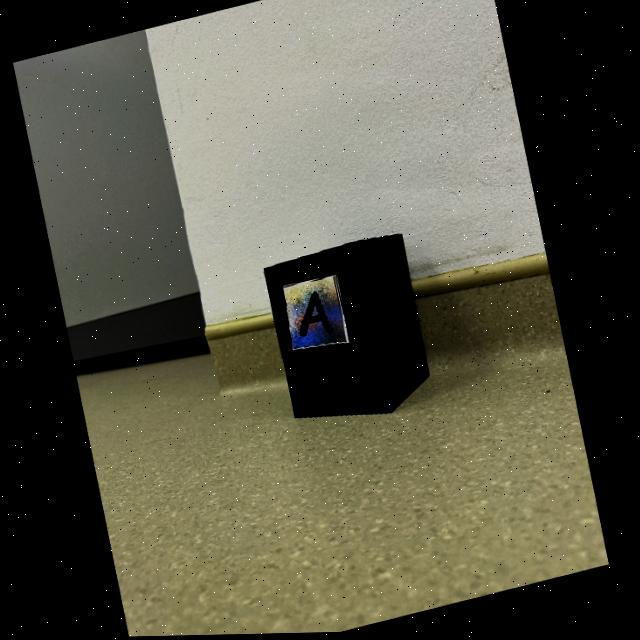A: (302, 293, 335, 338)
